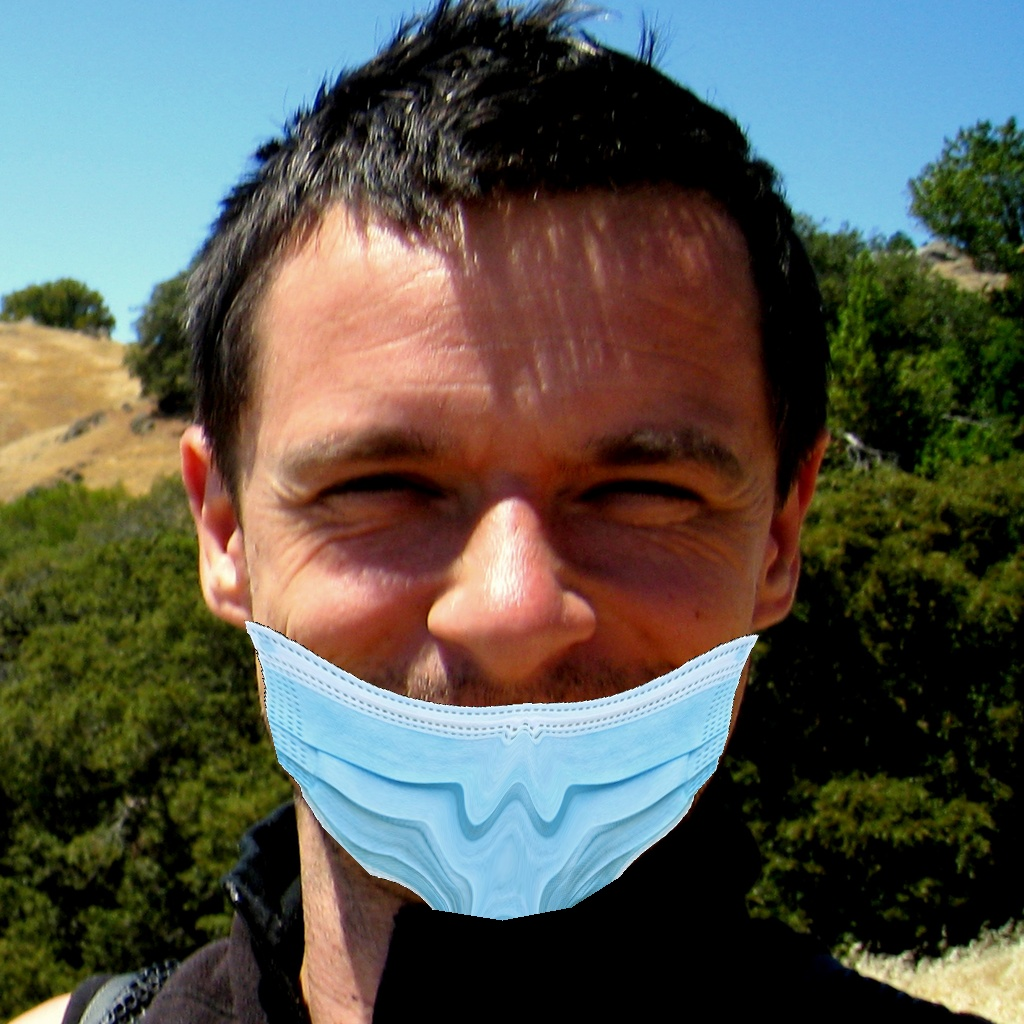mascarilla_mal_puesta: (199, 348, 802, 908)
